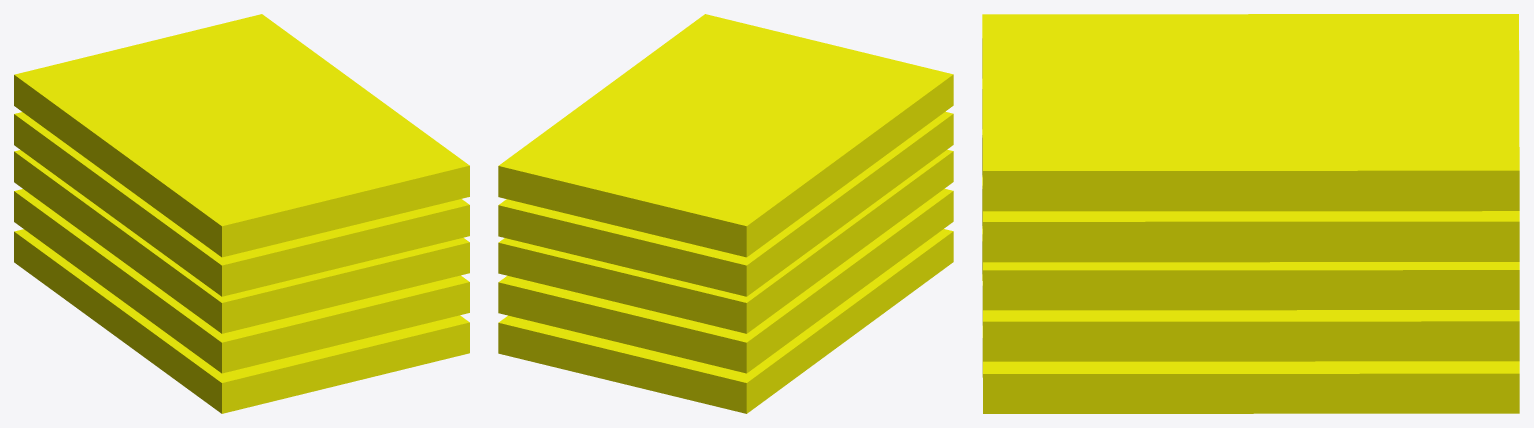
Rendered from Coc tien.gltf.
3 renders of one model, left to right at view 1: azimuth 30°, elevation 25°; view 2: azimuth 150°, elevation 25°; view 3: azimuth 270°, elevation 25°, orthographic. The views are drawn at different scales.
Parts seen in each view (by area): view 1: Coc tien; view 2: Coc tien; view 3: Coc tien.
Part boxes in pixels (x1,y1,x2,y2): Coc tien: [14, 14, 469, 413]; Coc tien: [498, 14, 953, 413]; Coc tien: [982, 14, 1519, 413].
Bounding box in the file's own units: 0.2258 × 0.1654 × 0.3264.
Materials: 1 (1 with a texture image).
